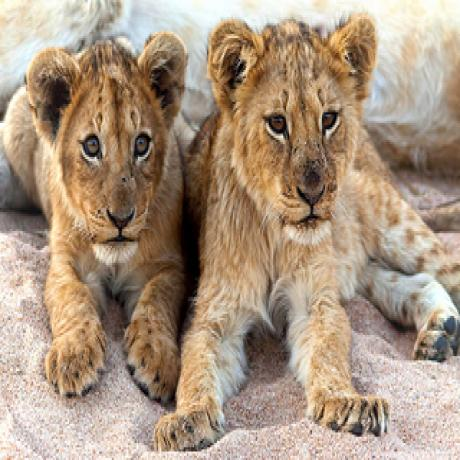Lion: (176, 0, 460, 436), (1, 25, 192, 412)
